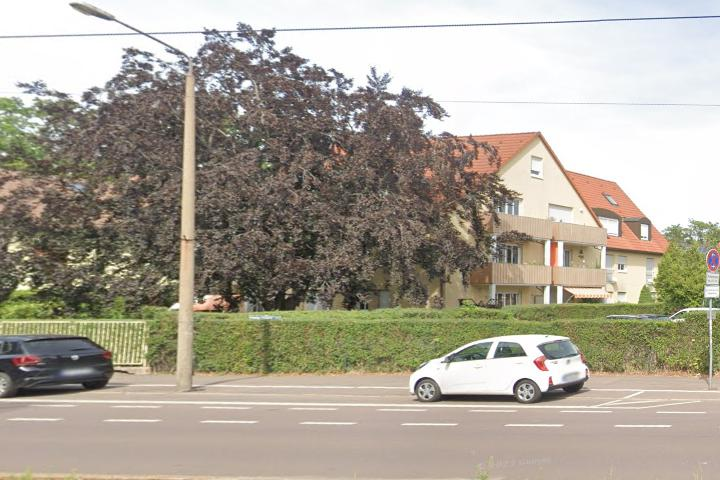traffic_sign: (706, 248, 720, 271)
vehicle: (407, 331, 593, 405), (1, 333, 118, 400)
